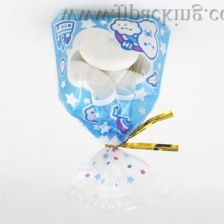snack: (42, 3, 189, 223)
